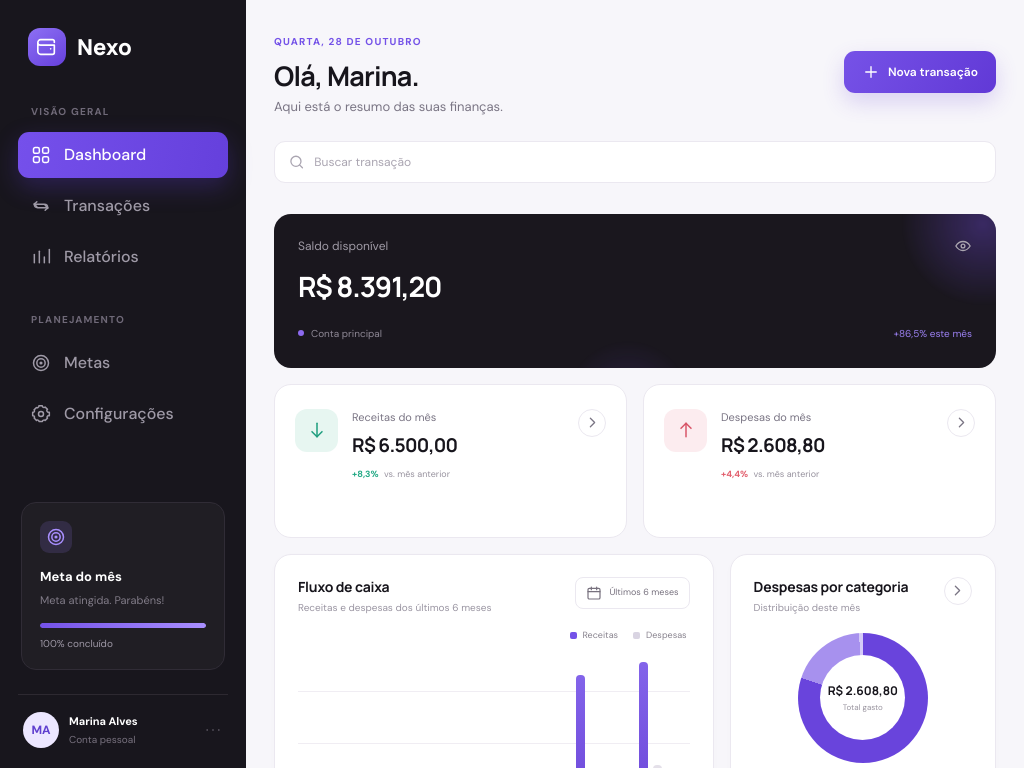
Test case: Dashboard › leva das setas dos cards para as transações filtradas do mês
The image size is (1024, 768).
Click the link named "Ver receitas do mês" at (592, 422), box [578,408,606,436]
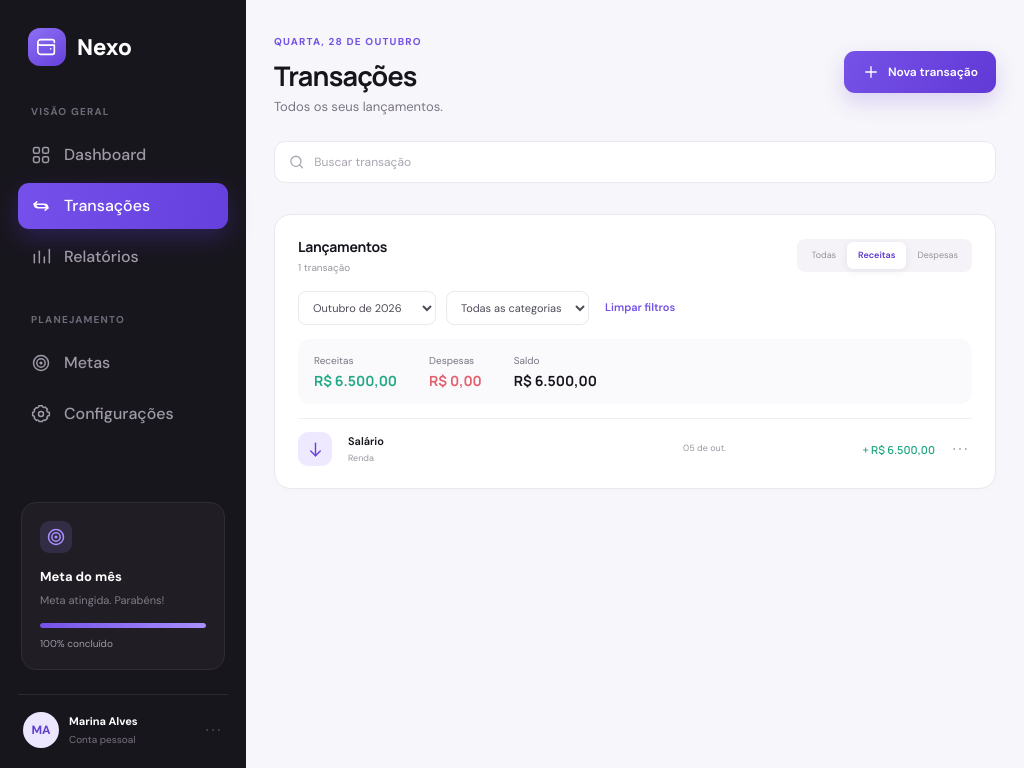
Expected: the text "Salário" is shown, [348,434,384,448]
Expected: the dropdown named "Mês" shows "Outubro de 2026", [298,290,436,324]
